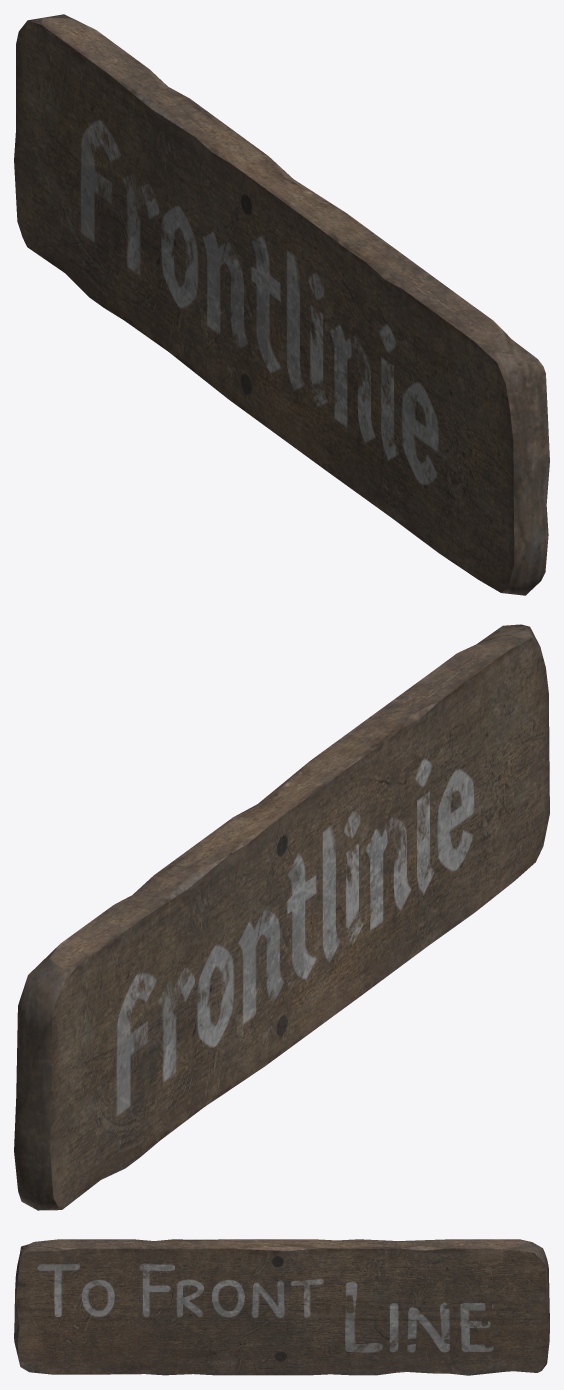
Rendered from SM_Signpost02.glb.
3 renders of one model, top to bottom at view 1: azimuth 30°, elevation 25°; view 2: azimuth 150°, elevation 25°; view 3: azimuth 270°, elevation 25°, orthographic. The views are drawn at different scales.
Visible parts, largest first — view 1: SM_Signpost02; view 2: SM_Signpost02; view 3: SM_Signpost02.
Part boxes in pixels (x1,y1,x2,y2): SM_Signpost02: (14,14,549,595); SM_Signpost02: (14,624,549,1210); SM_Signpost02: (14,1239,549,1375).
Size of the model in its own units: 0.0409 by 0.2581 by 0.9854.
1 material, 1 textured.
